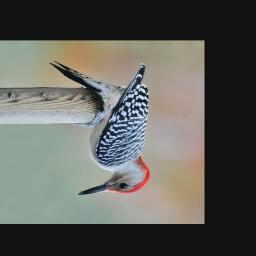Woodpecker: (41, 51, 160, 201)
